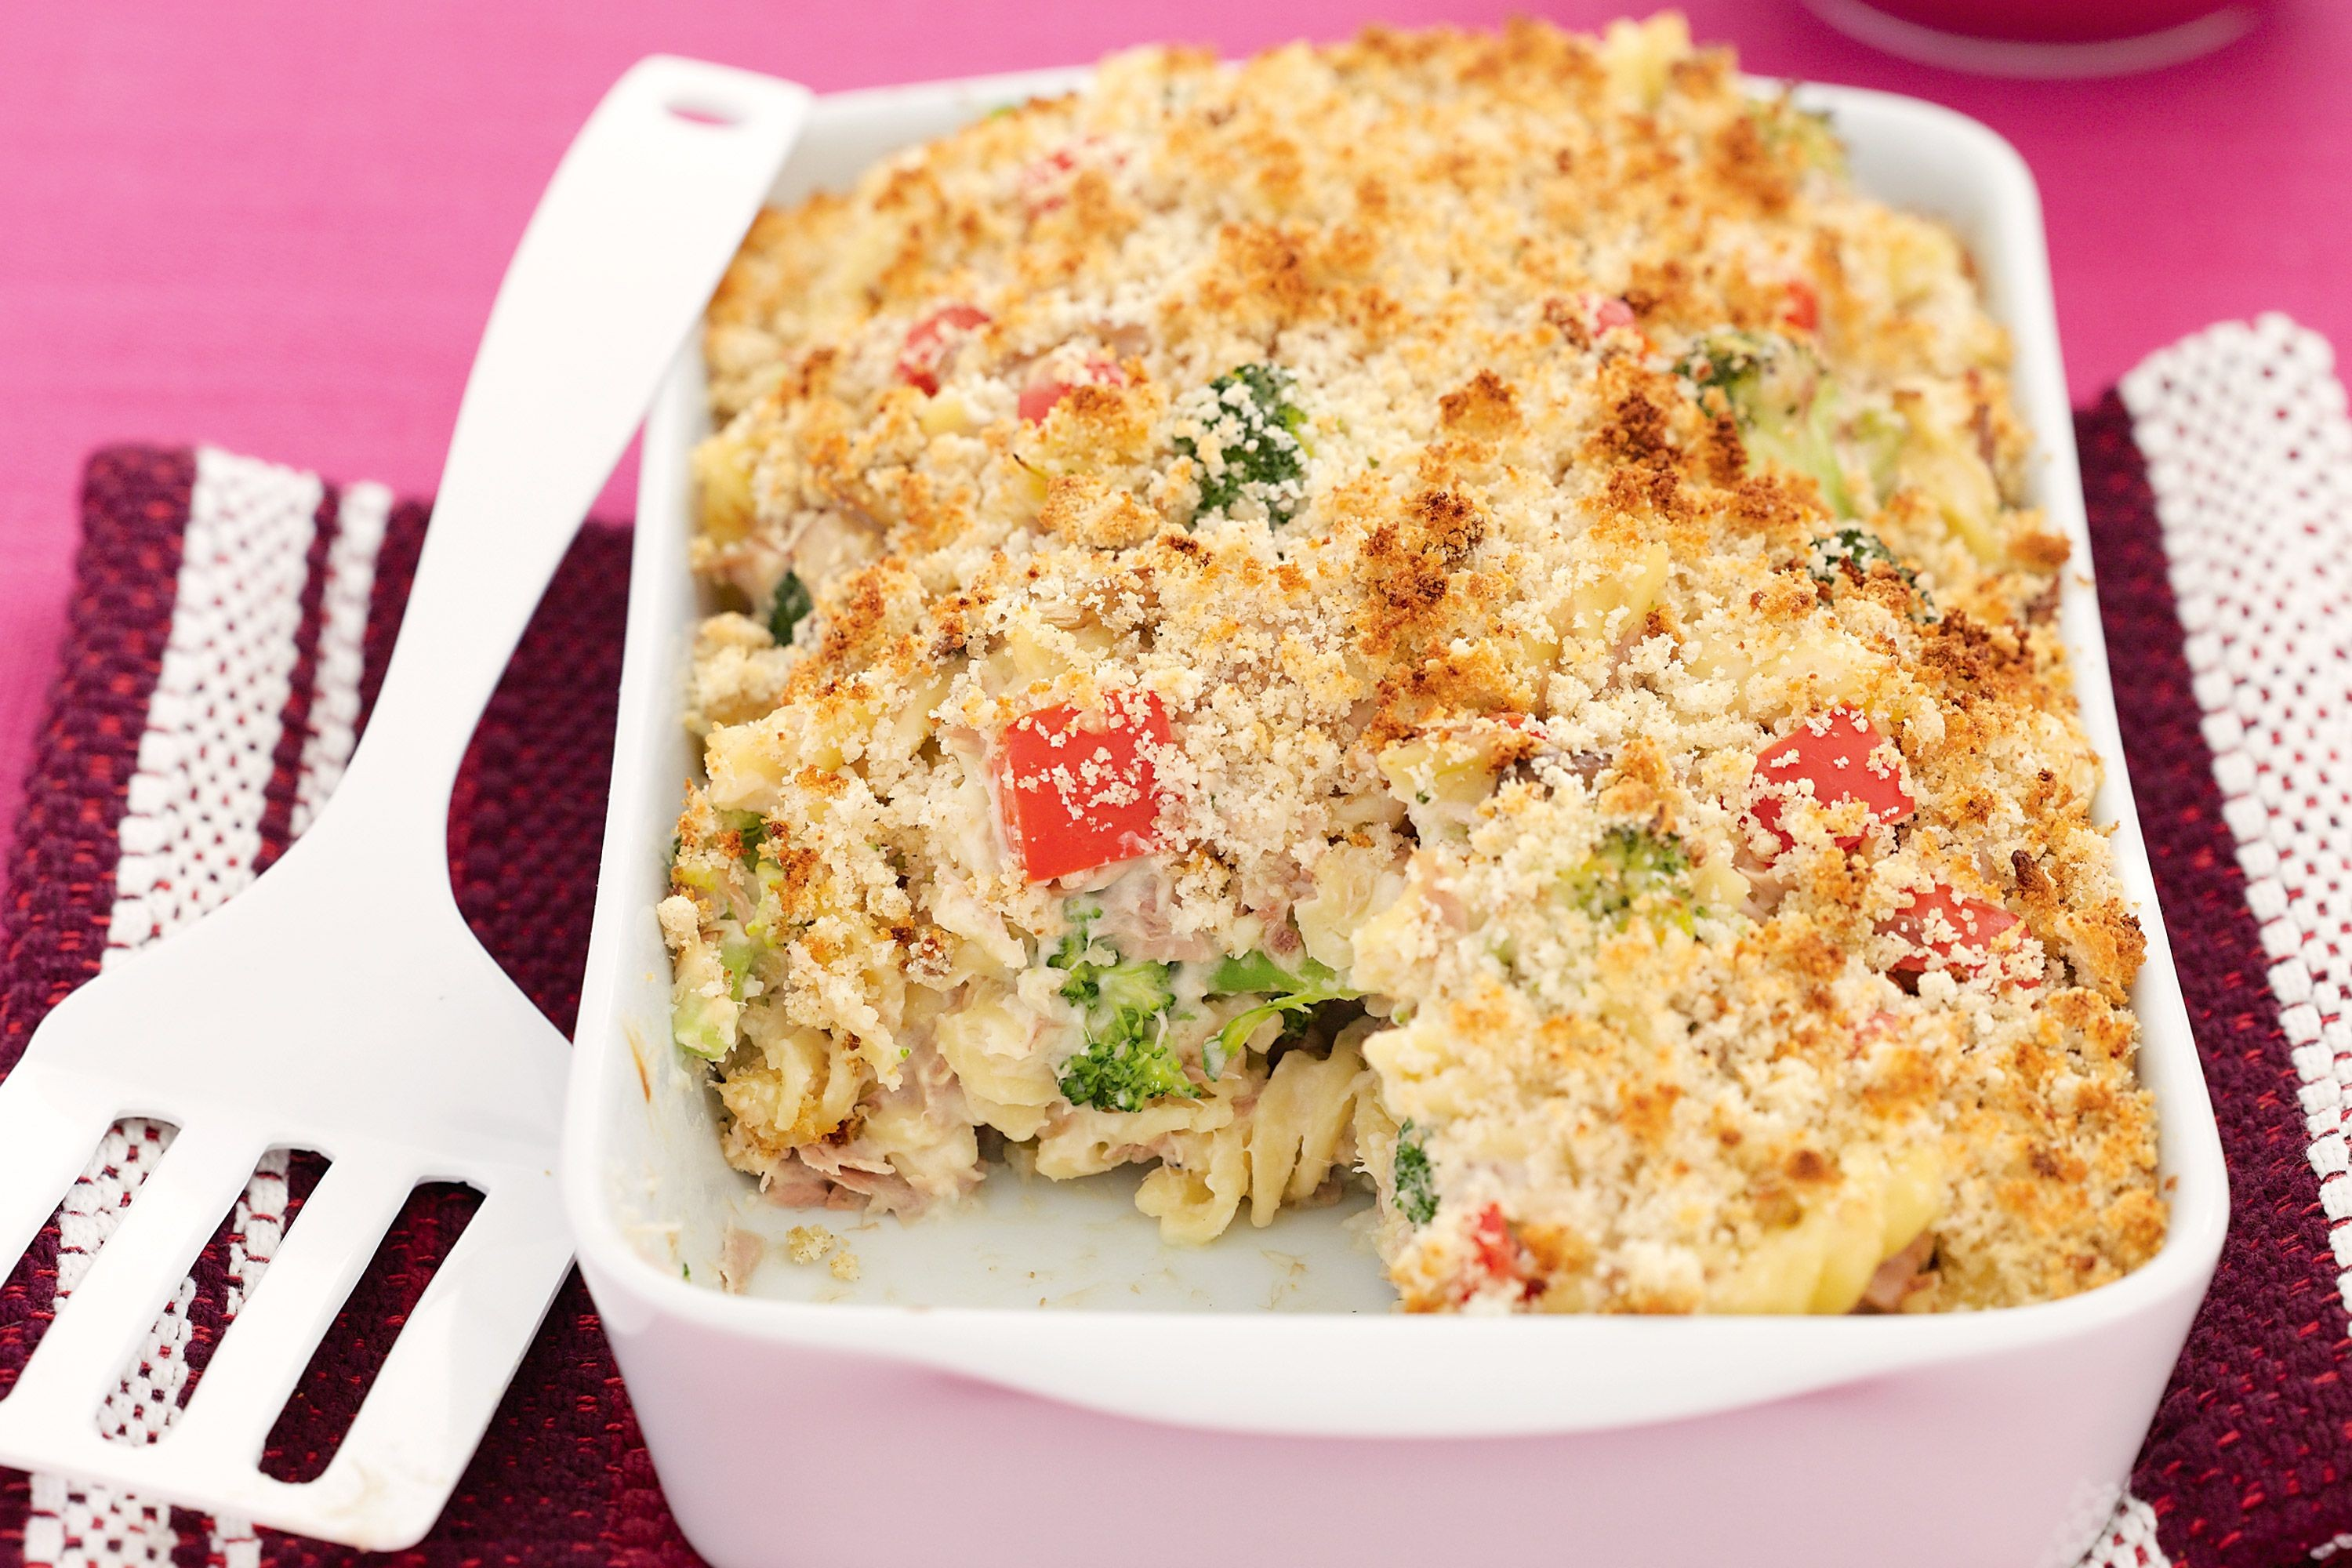slice of bread: (1862, 210, 2037, 1223)
